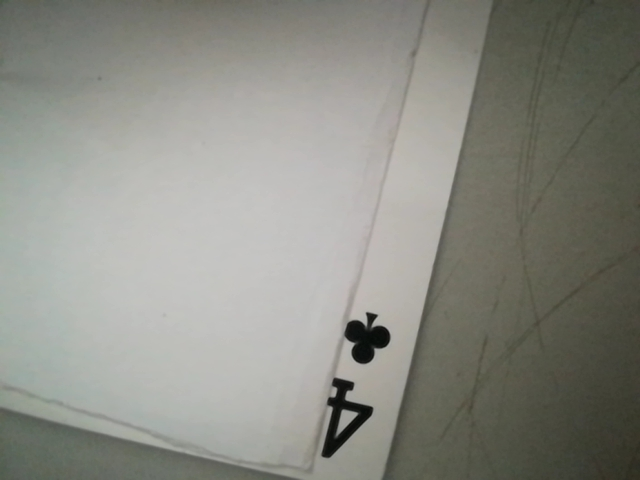mh 4: (306, 303, 405, 471)
